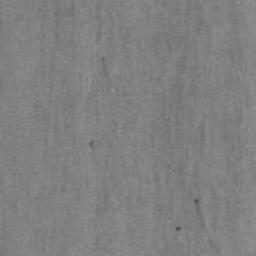Inclusion: (193, 197, 223, 256), (100, 56, 113, 86), (88, 140, 99, 165), (69, 0, 77, 28), (174, 225, 182, 232)
